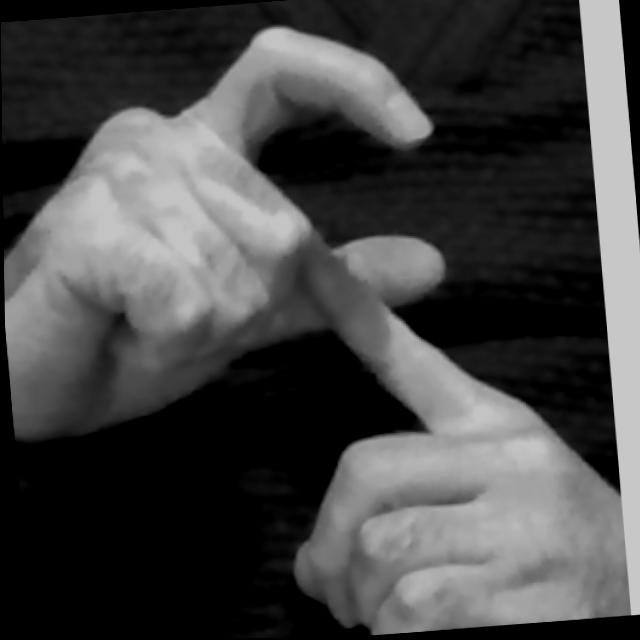C_: (0, 0, 627, 640)
